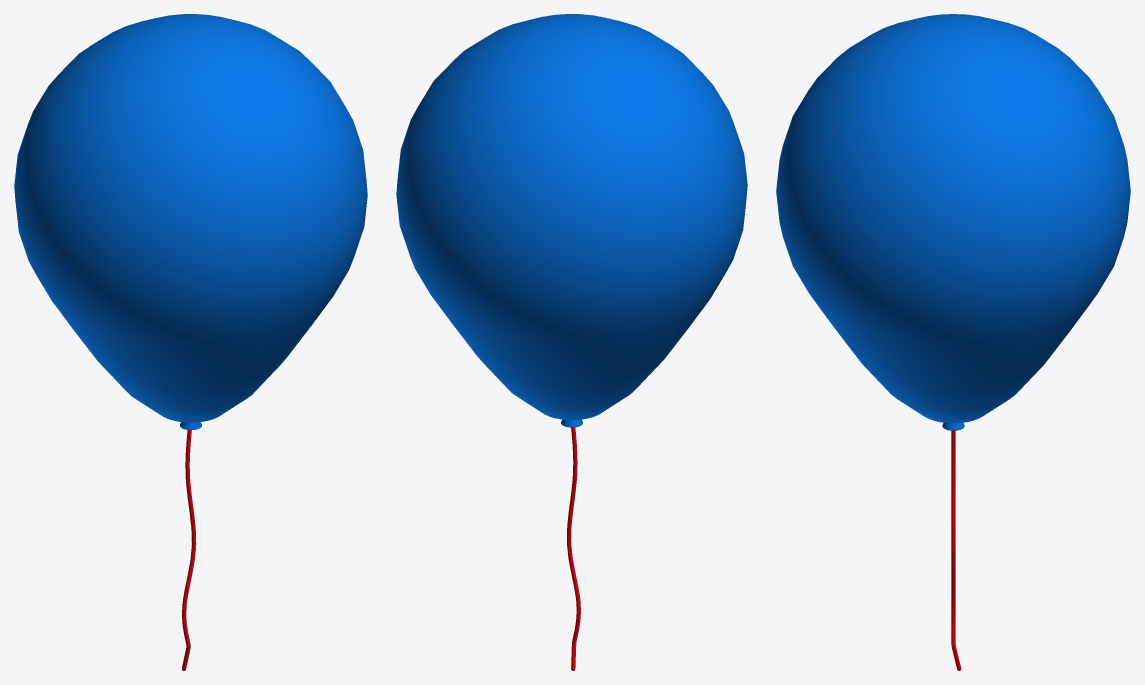
File: ballon.fbx
The picture shows the model from 3 angles, left to right: view 1: azimuth 30°, elevation 25°; view 2: azimuth 150°, elevation 25°; view 3: azimuth 270°, elevation 25°; orthographic projection.
Parts seen in each view (by area): view 1: Ballon; view 2: Ballon; view 3: Ballon.
Part boxes in pixels (<box>): Ballon: <box>14,14,367,670</box>; Ballon: <box>396,14,747,670</box>; Ballon: <box>776,14,1130,670</box>.
Bounding box in the file's own units: 200 × 400 × 200.
